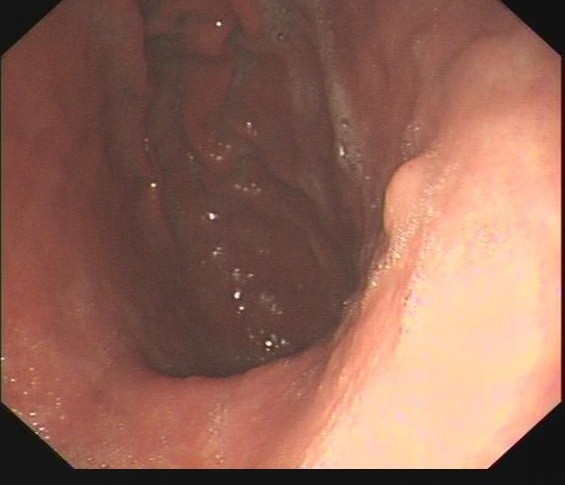Polyp: (378, 148, 431, 239)
